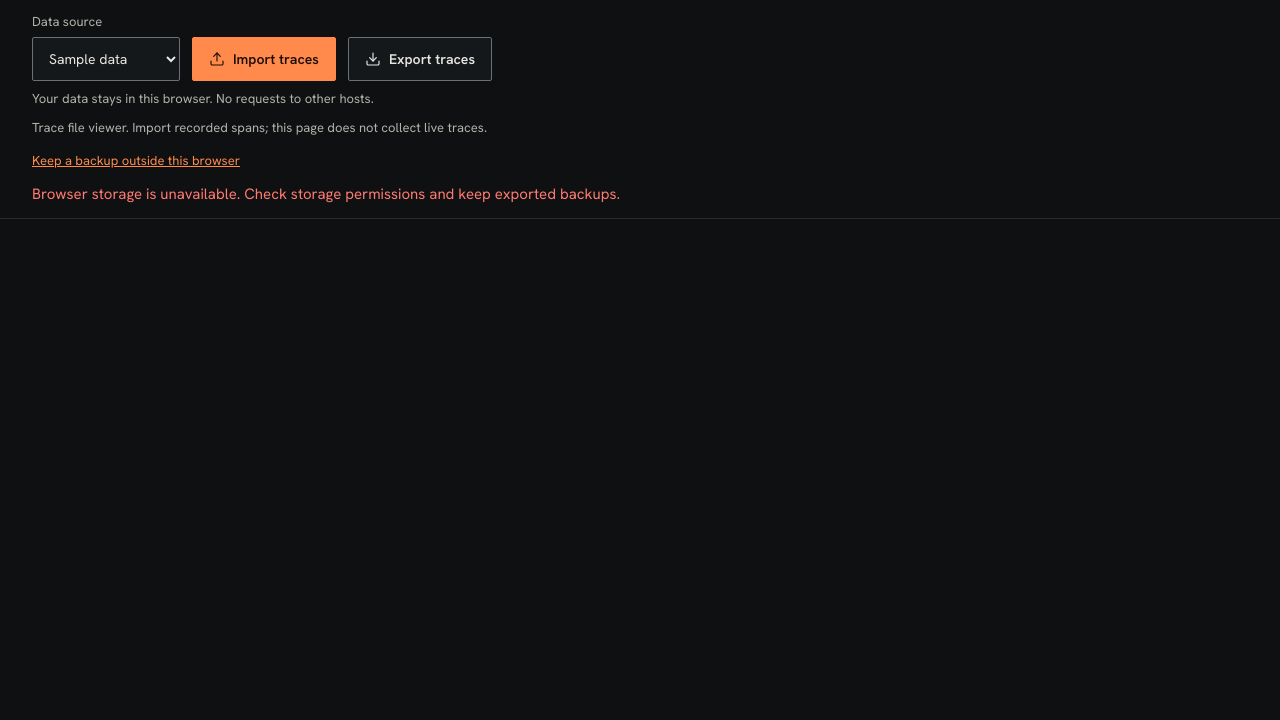
Test: Local workspace controls › keeps recovery import available when opening browser storage fails
Expected: the message shows "Browser storage is unavailable", [32,184,620,204]
Click the button "Import traces": (264, 59) [192,37,336,81]
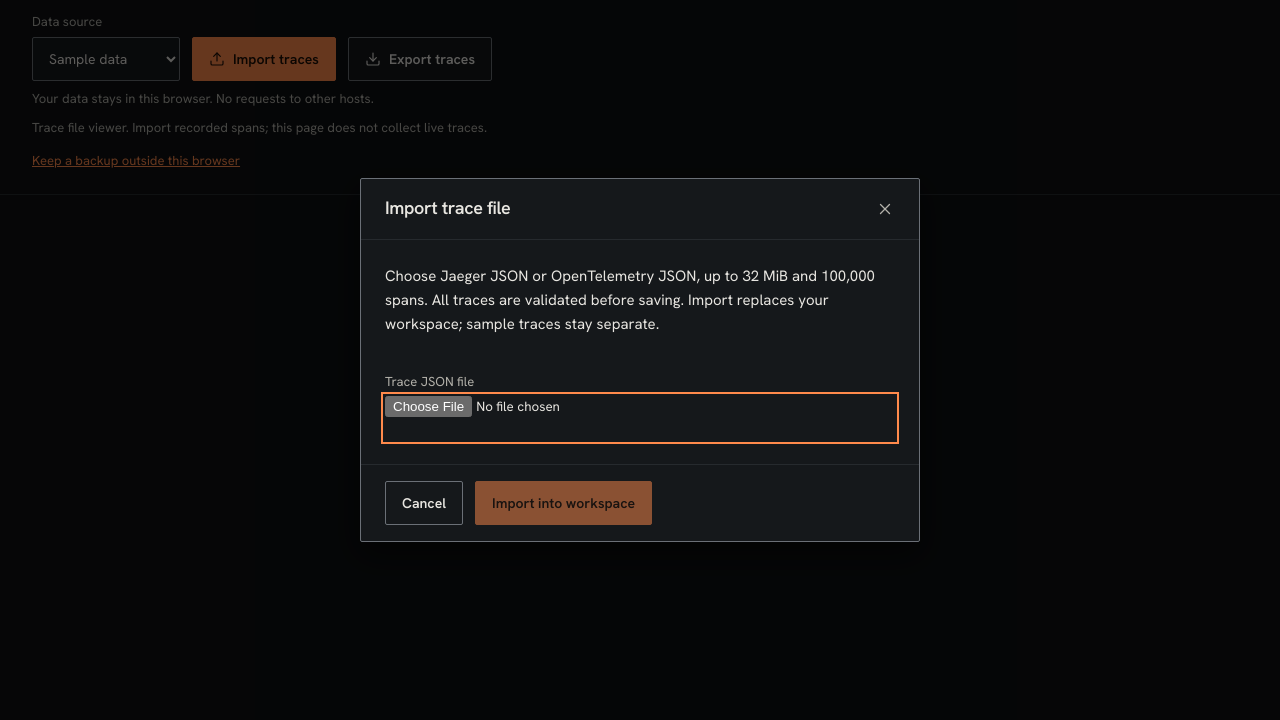
Result: the dialog "Import trace file" is shown at [360,178,920,542]
Result: the file field labelled "Trace JSON file" is enabled at [385,396,895,440]
